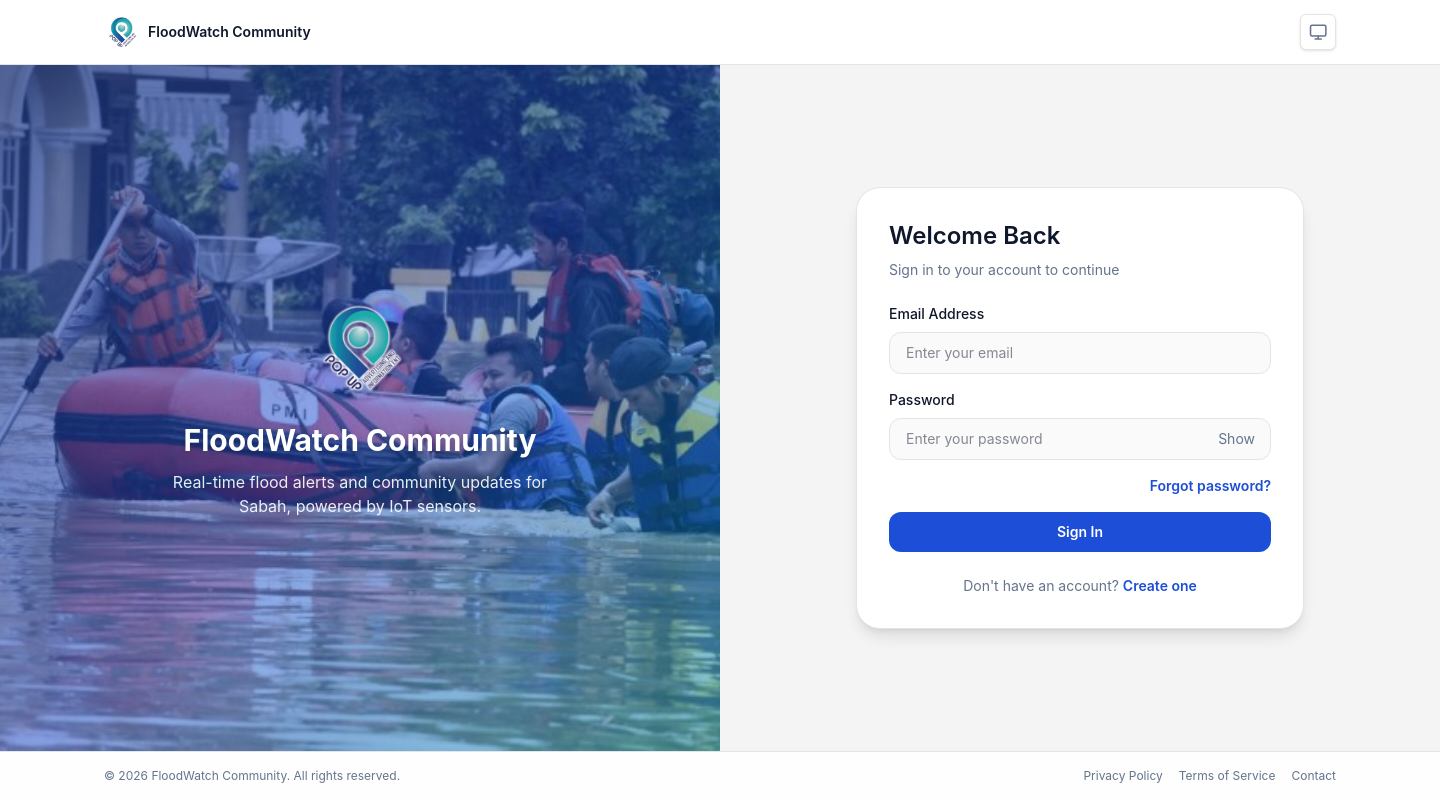
it: Authentication › Login › shows error toast/message on invalid credentials
Type "wrong@example.com" into the field labelled "Email Address" at (1080, 353), box x1=889 y1=332 x2=1271 y2=374
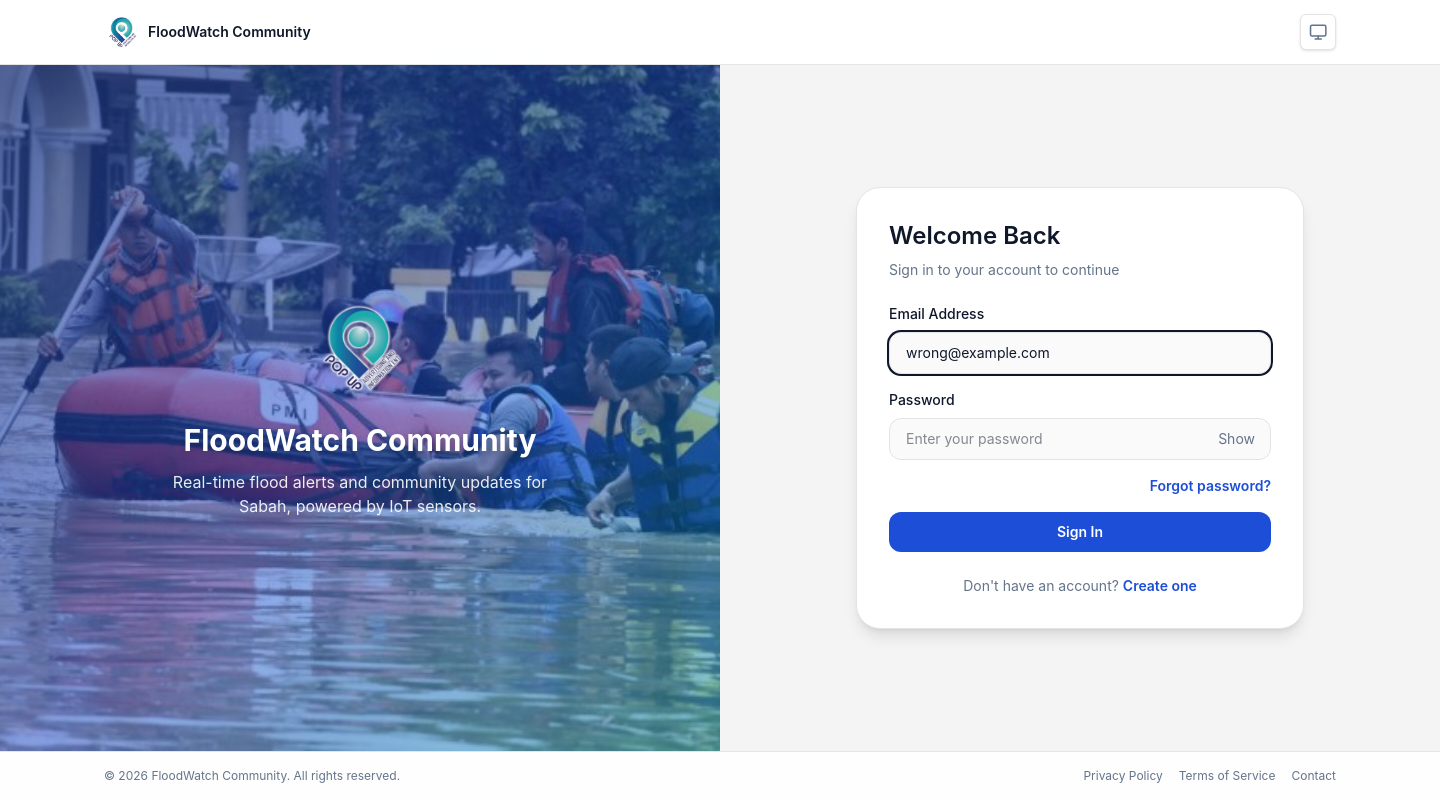
Type "wrongpassword" into the password field labelled "Password" at (1080, 439), box x1=889 y1=418 x2=1271 y2=460
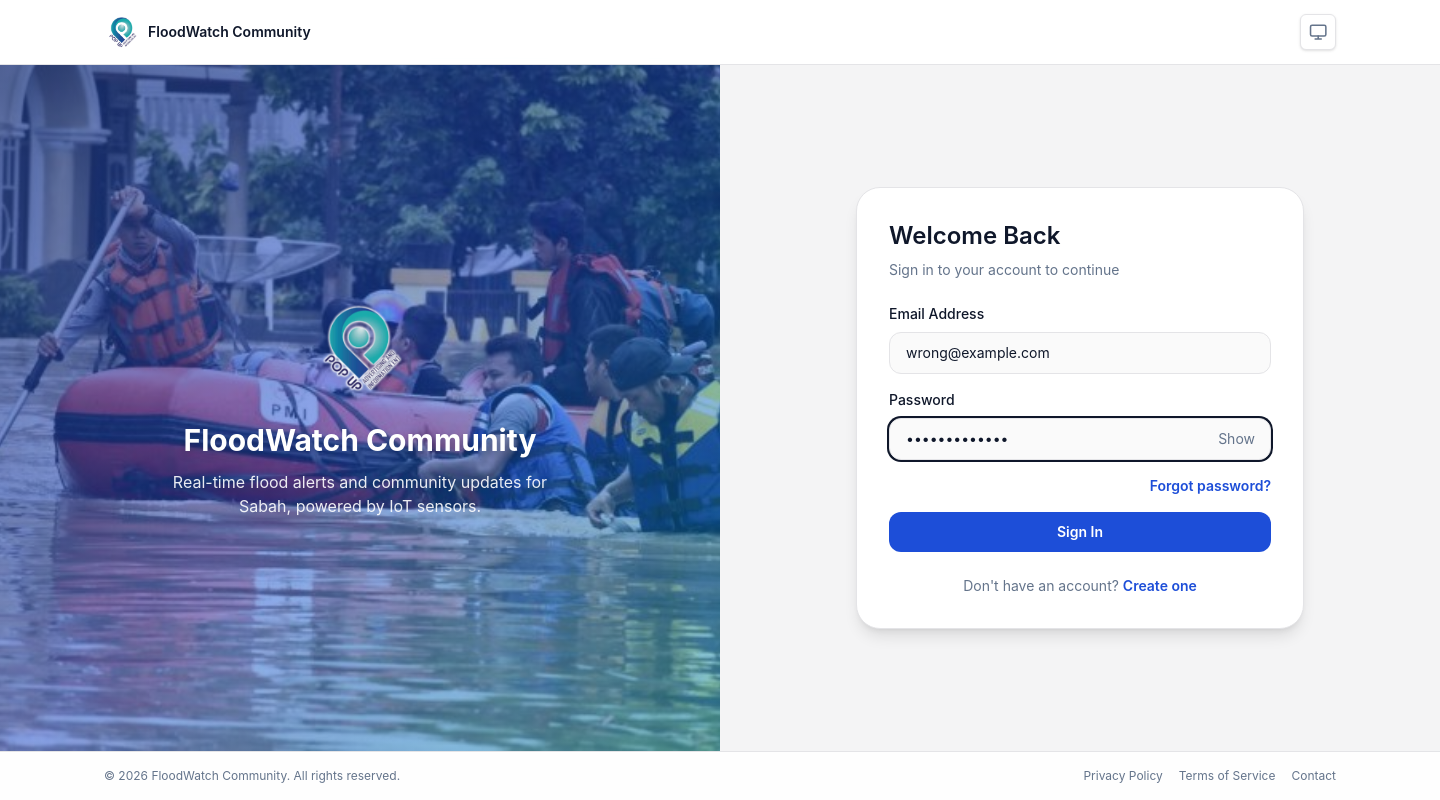
Click the submit button at (1080, 532), box x1=889 y1=512 x2=1271 y2=552
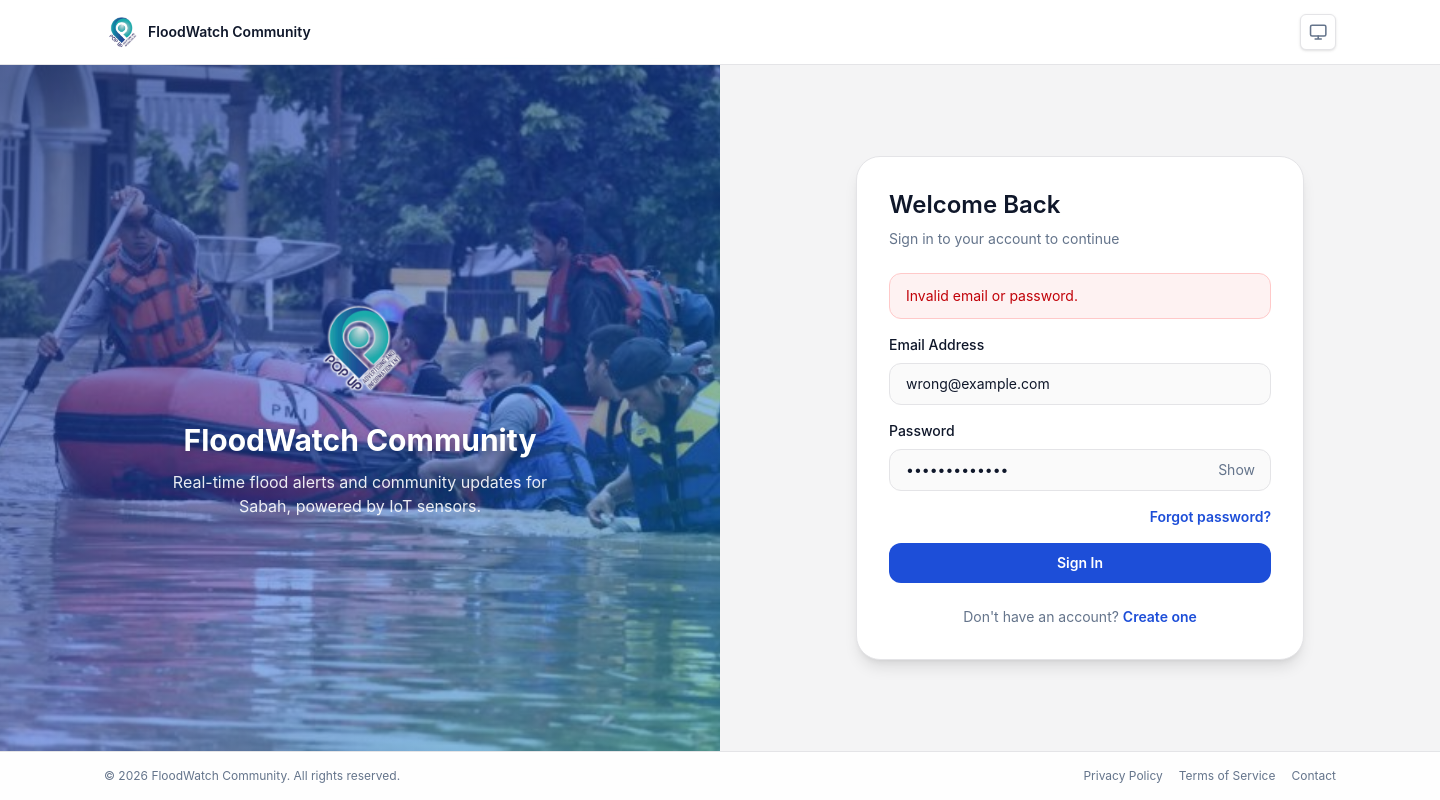
Check: the text "Invalid email or password." is shown, box x1=906 y1=286 x2=1078 y2=304
